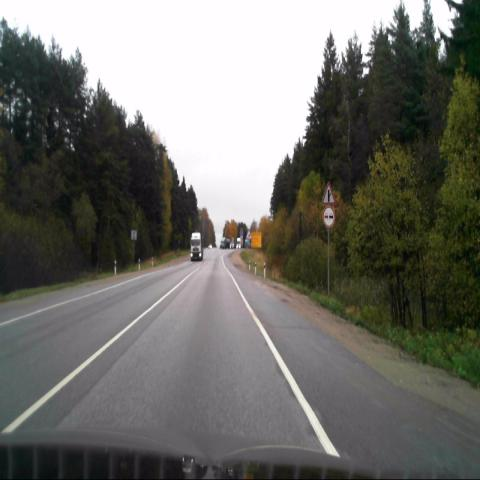2_3_4: (322, 183, 335, 204)
